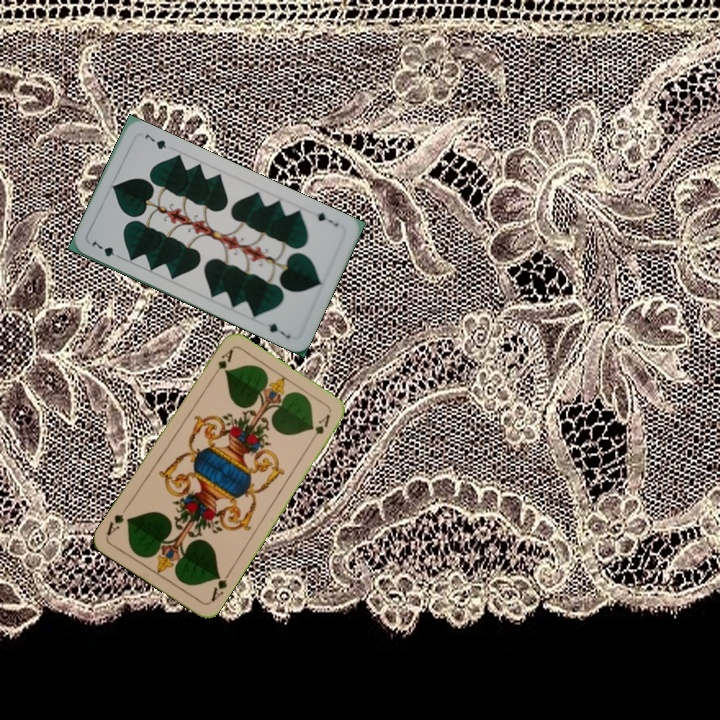G7: (87, 237, 124, 261), (313, 208, 341, 229)
GA: (208, 345, 236, 381), (206, 568, 233, 605)
